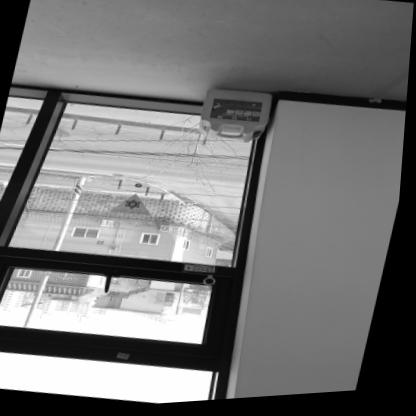DDL: (198, 86, 278, 152)
